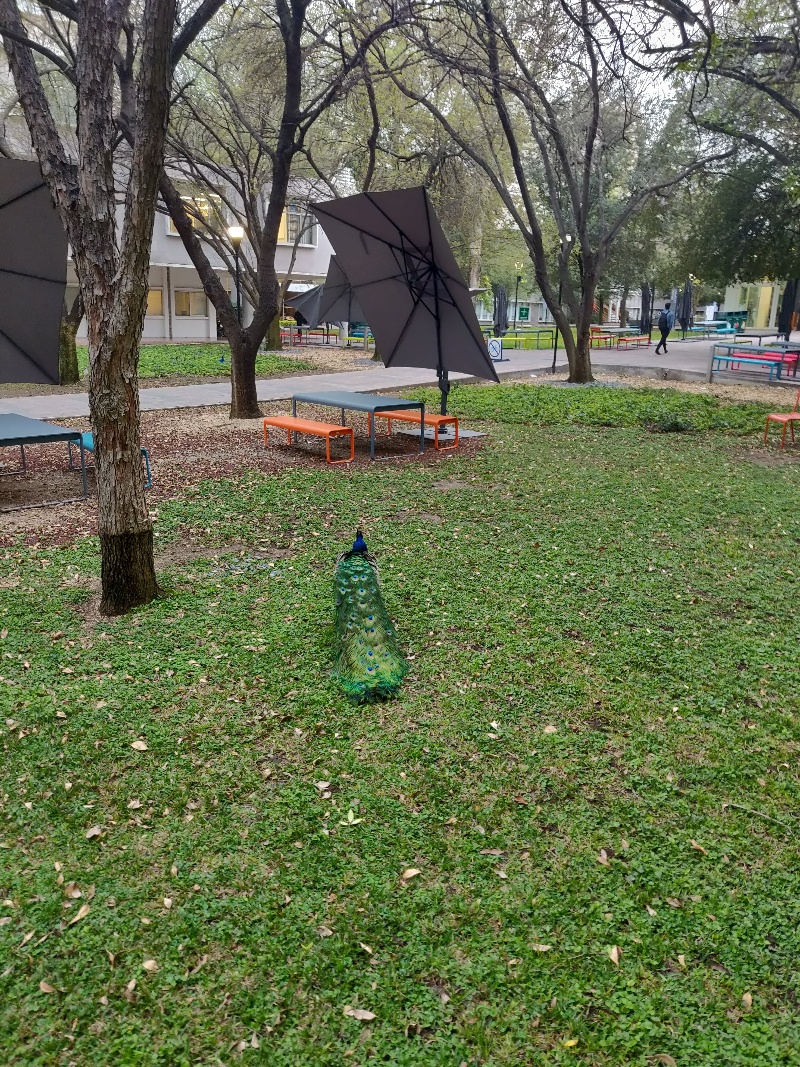pavoreal: (334, 523, 392, 684)
